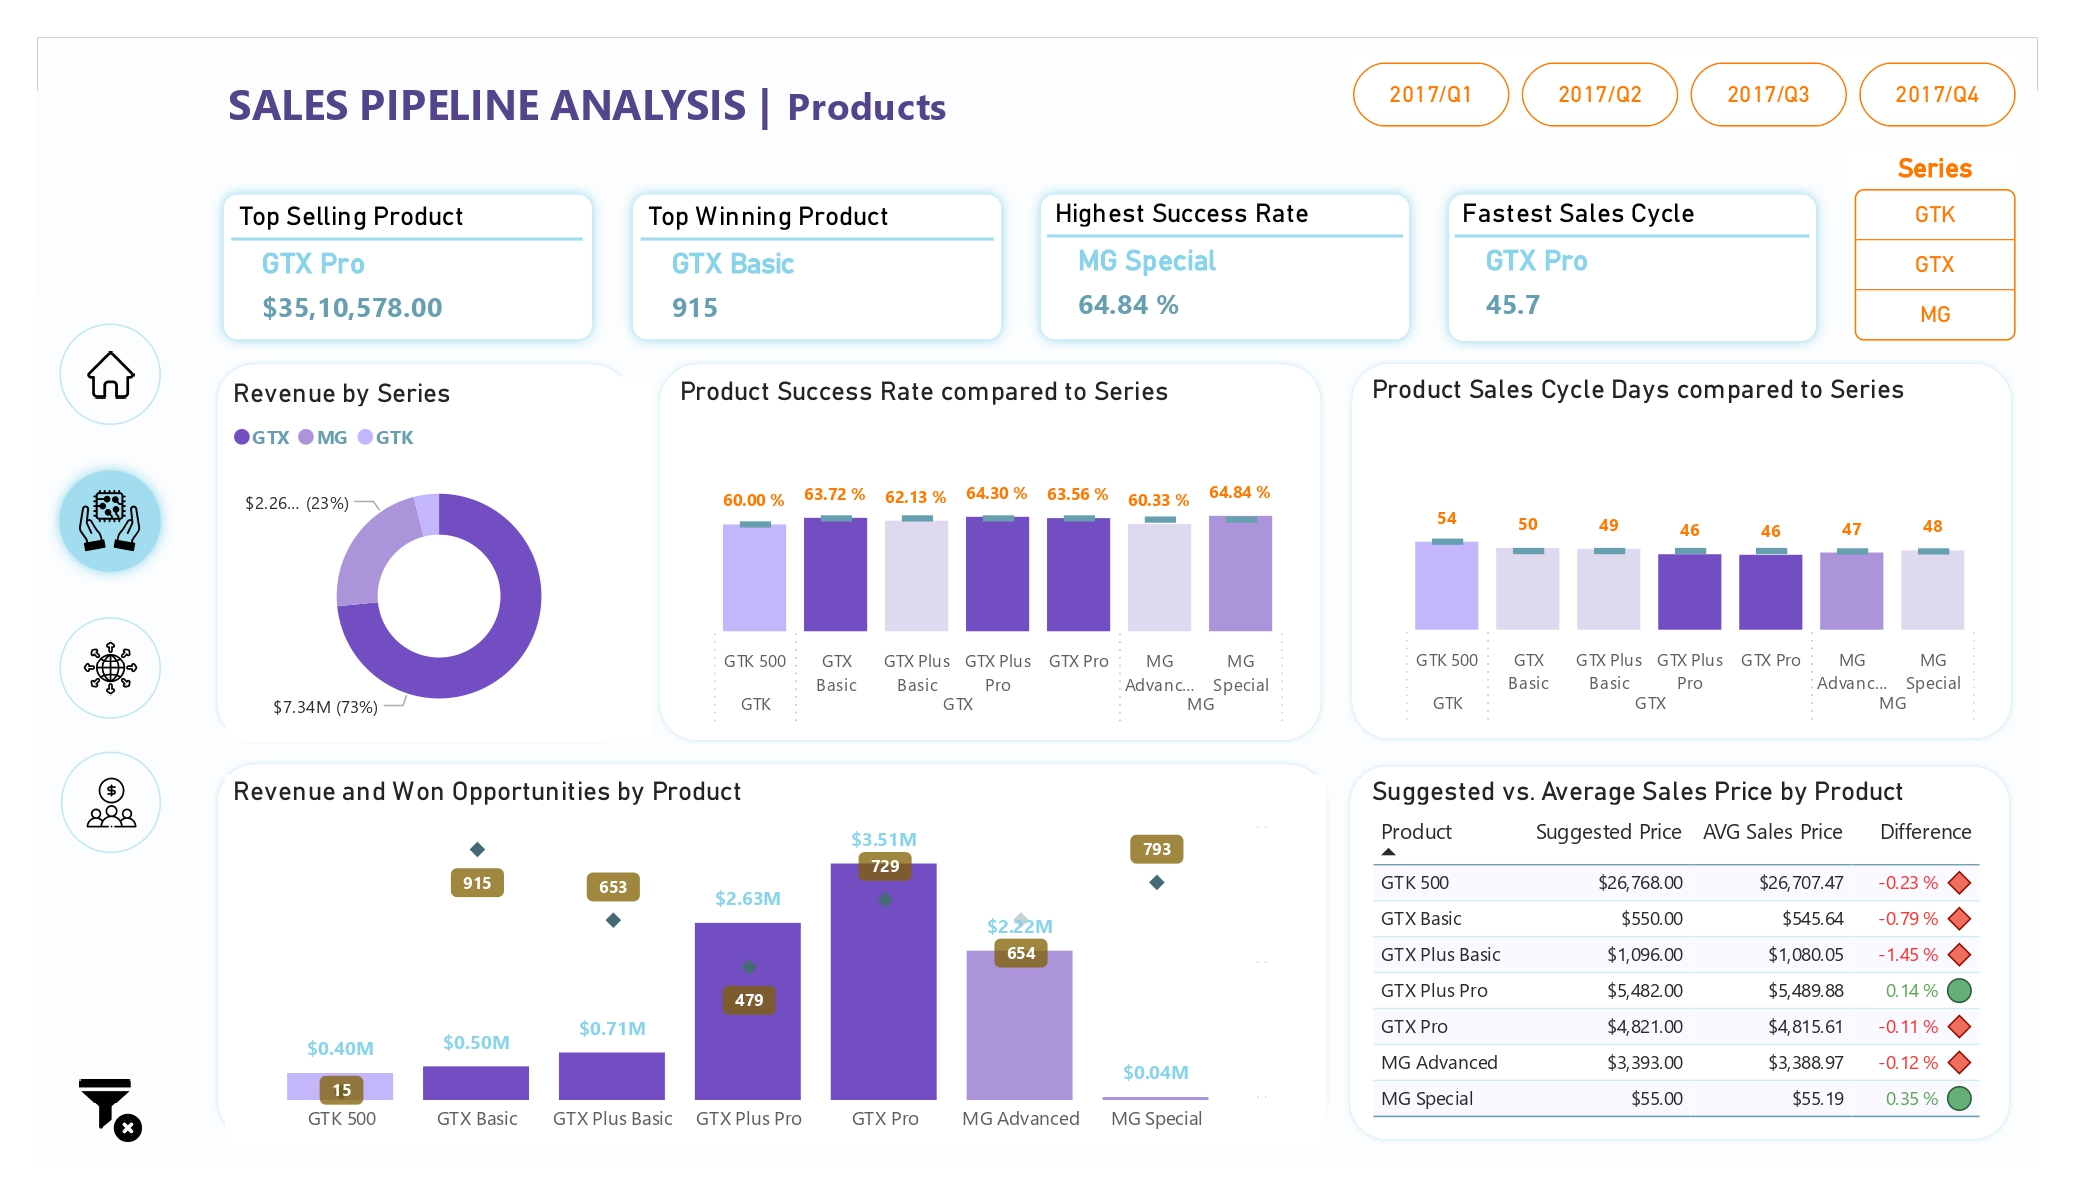

Layout of this report page (visuals, bound fields, positions):
{"tool":"powerbi","page":{"name":"Products","canvas":[1280,720],"ordinal":1},"visuals":[{"type":"advancedSlicerVisual","title":"Quarter Slicer","fields":{"Values":["calendar.Year Quarter"]},"box":[837,11.2,430,51.4],"z":0,"group":"g10"},{"type":"shape","box":[112.4,93,249.8,106.8],"z":0,"group":"g9"},{"type":"shape","box":[373.6,93,250.5,106.6],"z":0,"group":"g8"},{"type":"shape","box":[634.9,93,250,107],"z":0,"group":"g7"},{"type":"shape","box":[896.2,93,249.2,107.6],"z":0,"group":"g6"},{"type":"shape","box":[14.3,183.1,65,65],"z":0,"group":"g14"},{"type":"shape","box":[112,206,270,247.1],"z":0,"group":"g5"},{"type":"shape","box":[395.3,206,429.2,246.9],"z":0,"group":"g4"},{"type":"shape","box":[837.8,206,428,246],"z":0,"group":"g3"},{"type":"shape","box":[14.3,371.1,65,65],"z":0,"group":"g12"},{"type":"shape","box":[14.8,457.3,64,65.4],"z":0,"group":"g11"},{"type":"shape","box":[112,462,715,245],"z":0,"group":"g2"},{"type":"group","id":"g1","title":"Price Difference","box":[837.2,462.5,428,244.7],"z":0},{"type":"shape","box":[837.2,462.5,428,244.7],"z":0,"group":"g1"},{"type":"textbox","box":[117,8.3,708.3,63.3],"z":1000,"group":"g10"},{"type":"multiRowCard","title":"Highest Success Rate","fields":{"Values":["products.product_name","DAX Measures.success rate"]},"box":[645.9,102.4,227.9,88.2],"z":1000,"group":"g7"},{"type":"multiRowCard","title":"Fastest Sales Cycle","fields":{"Values":["products.product_name","DAX Measures.sales cycle duration"]},"box":[907.2,102.5,227.2,88.7],"z":1000,"group":"g6"},{"type":"multiRowCard","title":"Top Selling Product","fields":{"Values":["products.product_name","DAX Measures.sales revenue"]},"box":[124.8,103.9,225,84.9],"z":1000,"group":"g9"},{"type":"multiRowCard","title":"Top Winning Product","fields":{"Values":["products.product_name","DAX Measures.won opportunities"]},"box":[386.1,103.9,225.6,84.8],"z":1000,"group":"g8"},{"type":"image","title":"Home Icon","box":[31.8,200.6,30,30],"z":1000,"group":"g14"},{"type":"lineClusteredColumnComboChart","title":"Product Sales Cycle Days compared to Series","fields":{"Category":["products.series","products.product_name"],"Y":["DAX Measures.sales cycle duration"],"Y2":["DAX Measures.series sales cycle"]},"box":[848.5,215.3,411,232.7],"z":1000,"group":"g3"},{"type":"lineClusteredColumnComboChart","title":"Product Success Rate compared to Series","fields":{"Category":["products.series","products.product_name"],"Y":["DAX Measures.success rate"],"Y2":["DAX Measures.series success rate"]},"box":[406,216,411.3,232.7],"z":1000,"group":"g4"},{"type":"donutChart","title":"Revenue by Series","fields":{"Category":["products.series"],"Y":["DAX Measures.sales revenue"]},"box":[120.3,217.1,273.3,233.9],"z":1000,"group":"g5"},{"type":"shape","box":[6.5,269.3,80.7,80.7],"z":1000,"group":"g13"},{"type":"image","title":"Market Reach Icon","box":[29.3,386.1,35,35],"z":1000,"group":"g12"},{"type":"tableEx","title":"Suggested vs. Average Sales Price by Product","fields":{"Values":["products.product_name","Avg(products.sales_price)","DAX Measures.avg revenue","DAX Measures.difference pct"]},"box":[849.4,471.8,402.9,228.8],"z":1000,"group":"g1"},{"type":"lineClusteredColumnComboChart","title":"Revenue and Won Opportunities by Product","fields":{"Category":["products.product_name"],"Y":["DAX Measures.sales revenue"],"Y2":["DAX Measures.won opportunities"]},"box":[120,472,705,238],"z":1000,"group":"g2"},{"type":"image","title":"Sales Teams Icon","box":[29.3,472.5,35,35],"z":1000,"group":"g11"},{"type":"image","title":"Product Icon","box":[26.8,289.6,40,40],"z":2000,"group":"g13"},{"type":"group","id":"g2","title":"Prod Revenue Win","box":[112,462,715,248],"z":2000},{"type":"group","id":"g3","title":"Prod Sales Cycle vs Series","box":[837.8,206,428,246],"z":3000},{"type":"group","id":"g4","title":"Prod Succ Rate vs Series","box":[395.3,206,429.2,246.9],"z":4000},{"type":"group","id":"g5","title":"Series Revenue","box":[112,206,281.7,247.1],"z":5000},{"type":"group","id":"g6","title":"Fastest Sales Cycle","box":[896.2,93,250,107.5],"z":6000},{"type":"group","id":"g7","title":"Highest Success Rate","box":[634.9,93,250,107.8],"z":7000},{"type":"group","id":"g8","title":"Top Winning","box":[373.6,93,250,107.5],"z":8000},{"type":"group","id":"g9","title":"Top Selling","box":[112.4,93,250,107.6],"z":9000},{"type":"advancedSlicerVisual","title":"Series","fields":{"Values":["products.series"]},"box":[1157.5,72.5,108.3,127.5],"z":10000},{"type":"group","id":"g10","title":"Header","box":[117,8.3,1150,63.3],"z":11000},{"type":"image","title":"Reset Filters","box":[21.7,662,50,50],"z":11375,"group":"g15"},{"type":"group","id":"g11","title":"Sales Team Icon","box":[14.8,457.3,64,65.4],"z":11500,"group":"g15"},{"type":"group","id":"g12","title":"Market Icon","box":[14.3,371.1,65,65],"z":12500,"group":"g15"},{"type":"group","id":"g13","title":"Product Icon","box":[6.5,269.3,80.7,80.7],"z":14000,"group":"g15"},{"type":"group","id":"g14","title":"Home Icon","box":[14.3,183.1,65,65],"z":15000,"group":"g15"},{"type":"group","id":"g15","title":"Page Navigator","box":[0,0,95.7,720],"z":15001}]}

Visuals, with their boxes on the page's 1280x720 design canvas (x1, y1, x2, y2). These are canvas units, not pixel positions in the 2075x1200 screenshot, which may show the page scaled, cropped or inside an application window:
"Quarter Slicer" advancedSlicerVisual: <bbox>837, 11, 1267, 63</bbox>
shape: <bbox>112, 93, 362, 200</bbox>
shape: <bbox>374, 93, 624, 200</bbox>
shape: <bbox>635, 93, 885, 200</bbox>
shape: <bbox>896, 93, 1145, 201</bbox>
shape: <bbox>14, 183, 79, 248</bbox>
shape: <bbox>112, 206, 382, 453</bbox>
shape: <bbox>395, 206, 824, 453</bbox>
shape: <bbox>838, 206, 1266, 452</bbox>
shape: <bbox>14, 371, 79, 436</bbox>
shape: <bbox>15, 457, 79, 523</bbox>
shape: <bbox>112, 462, 827, 707</bbox>
"Price Difference" group: <bbox>837, 462, 1265, 707</bbox>
shape: <bbox>837, 462, 1265, 707</bbox>
textbox: <bbox>117, 8, 825, 72</bbox>
"Highest Success Rate" multiRowCard: <bbox>646, 102, 874, 191</bbox>
"Fastest Sales Cycle" multiRowCard: <bbox>907, 102, 1134, 191</bbox>
"Top Selling Product" multiRowCard: <bbox>125, 104, 350, 189</bbox>
"Top Winning Product" multiRowCard: <bbox>386, 104, 612, 189</bbox>
"Home Icon" image: <bbox>32, 201, 62, 231</bbox>
"Product Sales Cycle Days compared to Series" lineClusteredColumnComboChart: <bbox>848, 215, 1260, 448</bbox>
"Product Success Rate compared to Series" lineClusteredColumnComboChart: <bbox>406, 216, 817, 449</bbox>
"Revenue by Series" donutChart: <bbox>120, 217, 394, 451</bbox>
shape: <bbox>6, 269, 87, 350</bbox>
"Market Reach Icon" image: <bbox>29, 386, 64, 421</bbox>
"Suggested vs. Average Sales Price by Product" tableEx: <bbox>849, 472, 1252, 701</bbox>
"Revenue and Won Opportunities by Product" lineClusteredColumnComboChart: <bbox>120, 472, 825, 710</bbox>
"Sales Teams Icon" image: <bbox>29, 472, 64, 508</bbox>
"Product Icon" image: <bbox>27, 290, 67, 330</bbox>
"Prod Revenue Win" group: <bbox>112, 462, 827, 710</bbox>
"Prod Sales Cycle vs Series" group: <bbox>838, 206, 1266, 452</bbox>
"Prod Succ Rate vs Series" group: <bbox>395, 206, 824, 453</bbox>
"Series Revenue" group: <bbox>112, 206, 394, 453</bbox>
"Fastest Sales Cycle" group: <bbox>896, 93, 1146, 200</bbox>
"Highest Success Rate" group: <bbox>635, 93, 885, 201</bbox>
"Top Winning" group: <bbox>374, 93, 624, 200</bbox>
"Top Selling" group: <bbox>112, 93, 362, 201</bbox>
"Series" advancedSlicerVisual: <bbox>1158, 72, 1266, 200</bbox>
"Header" group: <bbox>117, 8, 1267, 72</bbox>
"Reset Filters" image: <bbox>22, 662, 72, 712</bbox>
"Sales Team Icon" group: <bbox>15, 457, 79, 523</bbox>
"Market Icon" group: <bbox>14, 371, 79, 436</bbox>
"Product Icon" group: <bbox>6, 269, 87, 350</bbox>
"Home Icon" group: <bbox>14, 183, 79, 248</bbox>
"Page Navigator" group: <bbox>0, 0, 96, 720</bbox>
